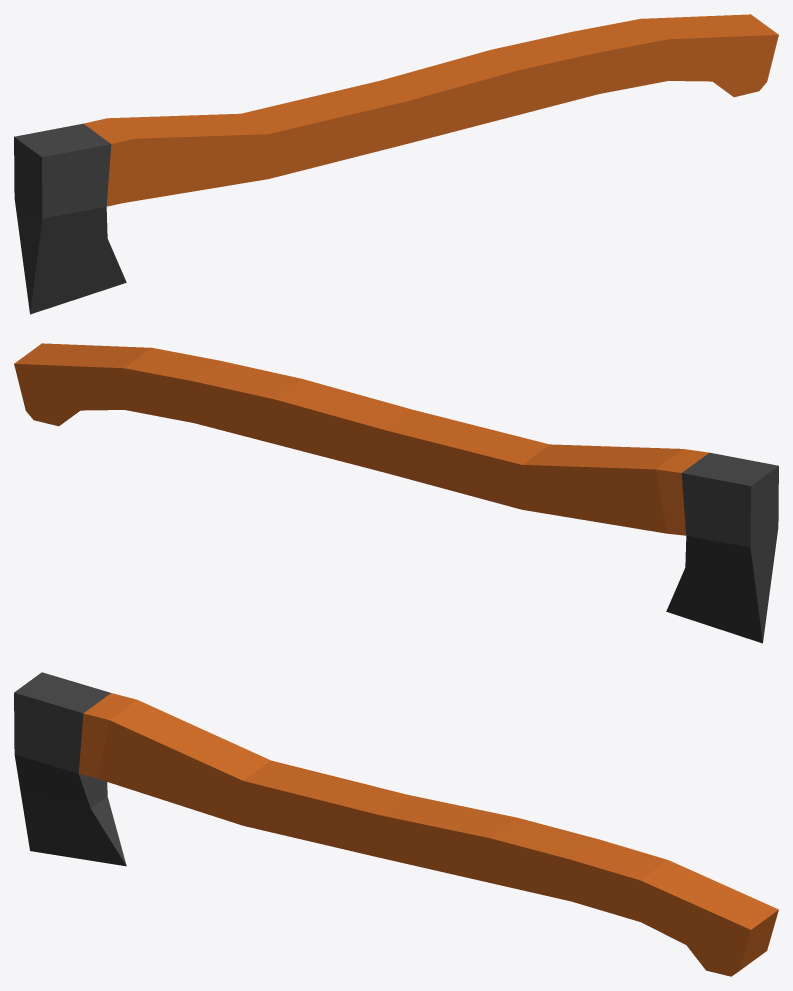
The model's file is Axe.fbx.
3 views of the same model, one above another, from view 1: azimuth 30°, elevation 25°; view 2: azimuth 150°, elevation 25°; view 3: azimuth 330°, elevation 25° (orthographic).
Parts seen in each view (by area): view 1: Cube; view 2: Cube; view 3: Cube.
Part boxes in pixels (x1,y1,x2,y2): Cube: (14, 14, 778, 314); Cube: (14, 343, 778, 643); Cube: (14, 672, 778, 976).
Bounding box in the file's own units: 993 × 216 × 67.81.
